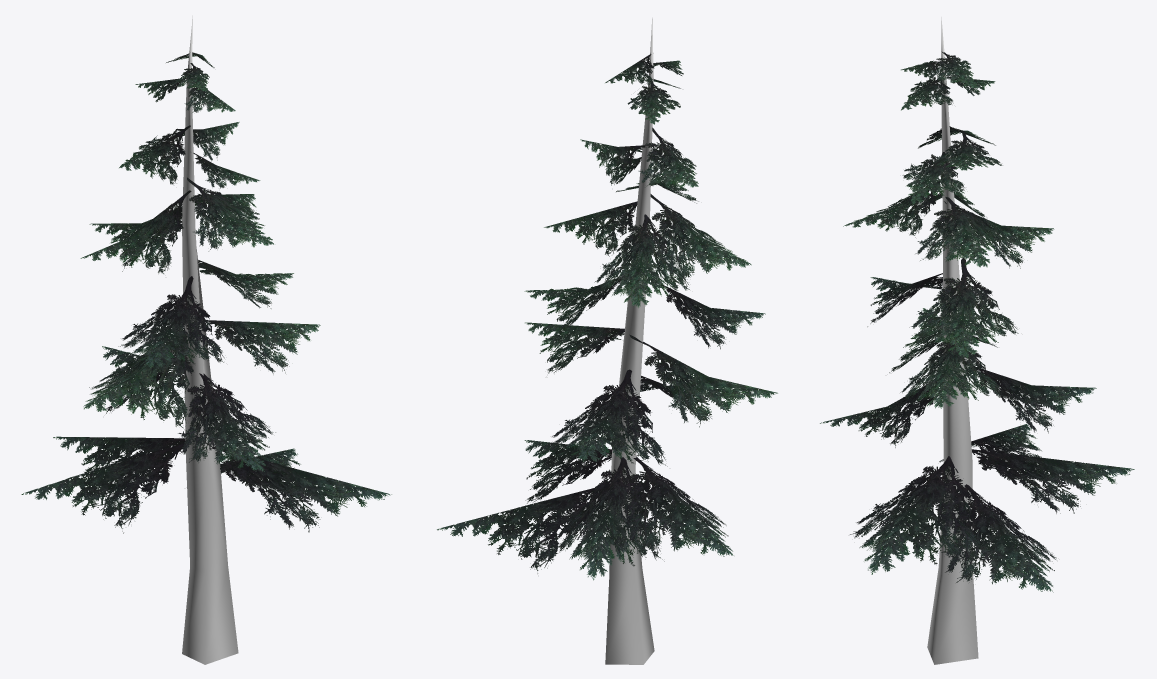
Rendered from yw_cangshan_songshu01.FBX.
3 views of the same model, side by side, from view 1: azimuth 30°, elevation 25°; view 2: azimuth 150°, elevation 25°; view 3: azimuth 270°, elevation 25° (orthographic). The views are drawn at different scales.
Parts seen in each view (by area): view 1: yw_cangshan_songshu01; view 2: yw_cangshan_songshu01; view 3: yw_cangshan_songshu01.
Boxes of the visible parts, x1,y1,x2,y2 form: yw_cangshan_songshu01: [21, 15, 391, 664]; yw_cangshan_songshu01: [437, 17, 777, 664]; yw_cangshan_songshu01: [820, 17, 1134, 664].
Size of the model in its own units: 505 by 1034 by 488.
